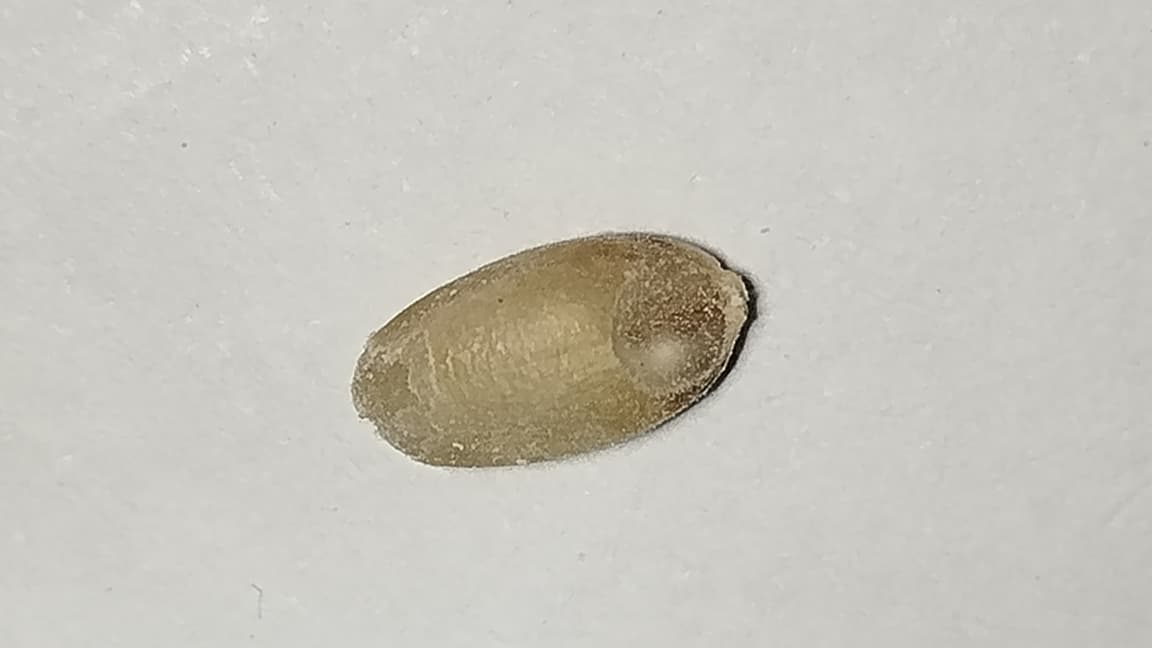damage: (351, 229, 755, 469)
insectdamage: (342, 322, 428, 465)
staindamage: (610, 242, 756, 412)
